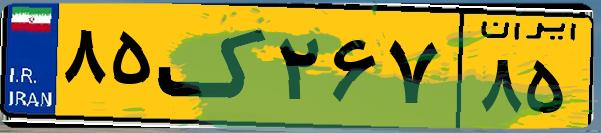2: (270, 28, 330, 110)
5: (525, 38, 570, 115), (110, 28, 158, 98)
6: (330, 28, 385, 110)
7: (385, 28, 445, 110)
8: (57, 26, 110, 100), (475, 38, 525, 113)
ک: (158, 12, 270, 120)
